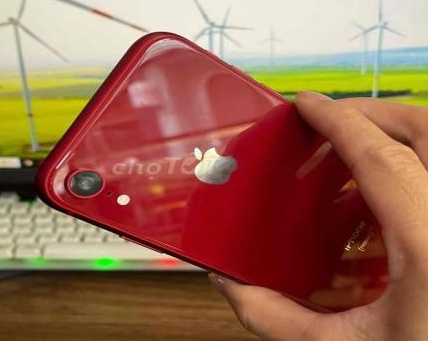scratch: (41, 173, 61, 199)
